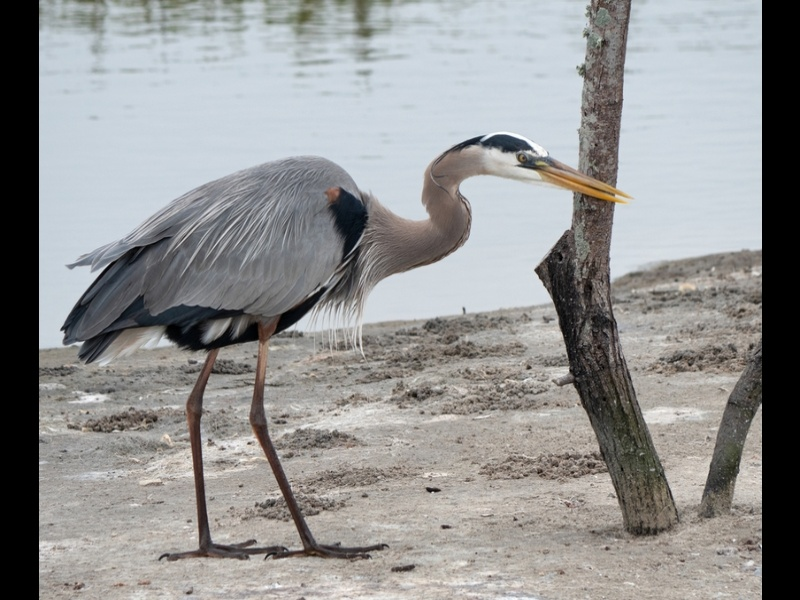heron: (55, 125, 633, 562)
